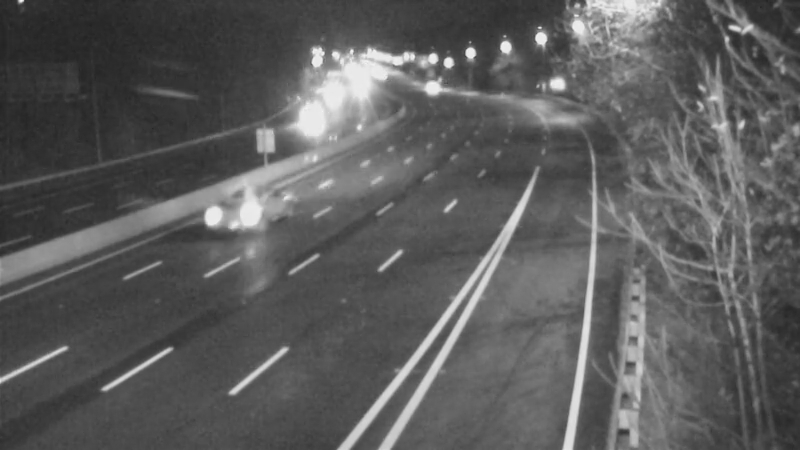vehicle: (199, 173, 279, 253), (400, 61, 450, 111), (289, 95, 339, 145)
